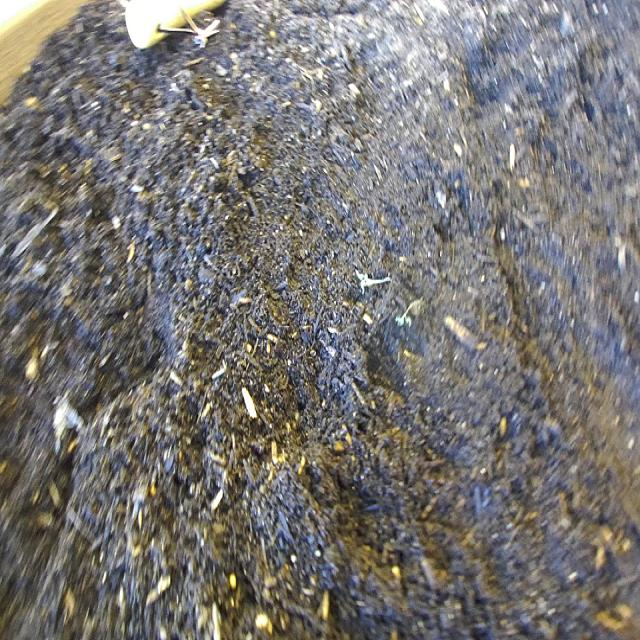Unhealthy: (393, 294, 428, 333), (353, 265, 393, 298)
